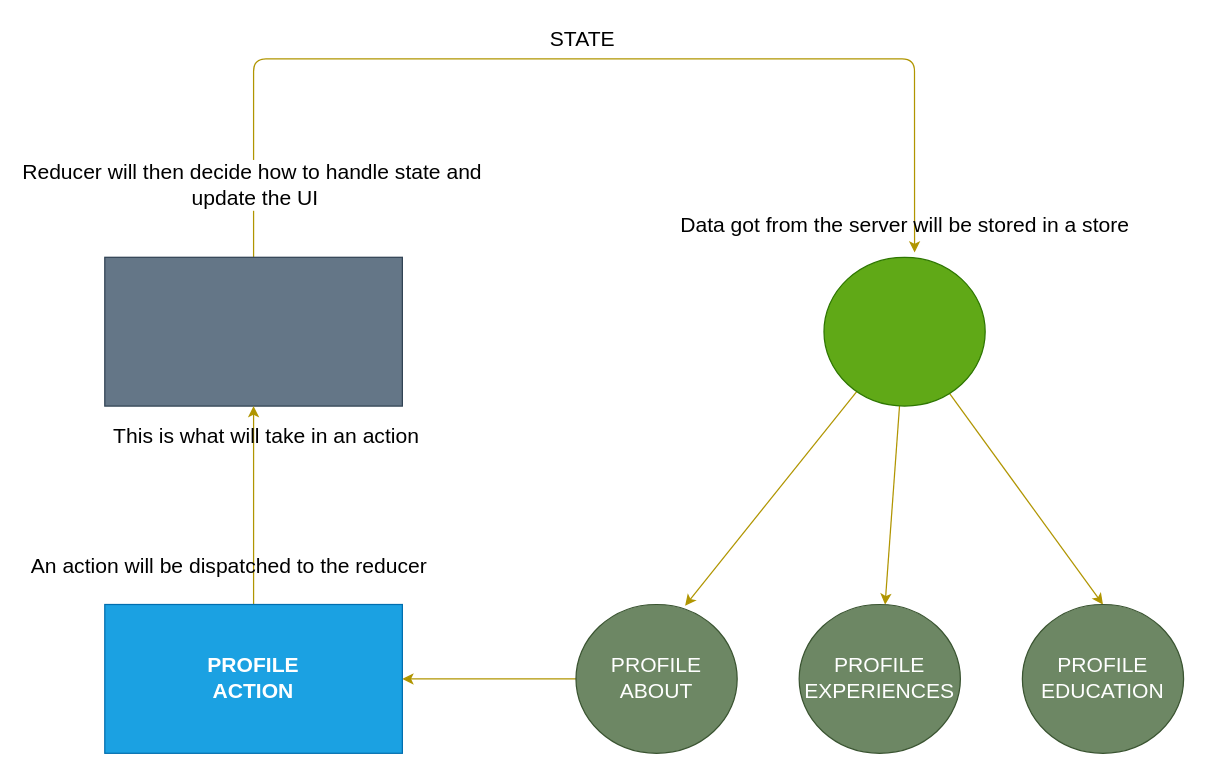
Image size: 1205x775. Some labels were removed from this diagram. The centre of each missing label's shape, as x and y in pixels:
"PROFILE" belongs at point (904, 331).
"PROFILE REDUCER" belongs at point (253, 331).
